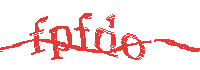d: (95, 14, 118, 58)
f: (29, 15, 47, 55), (75, 11, 92, 50)
o: (122, 31, 146, 62)
p: (50, 26, 72, 60)
